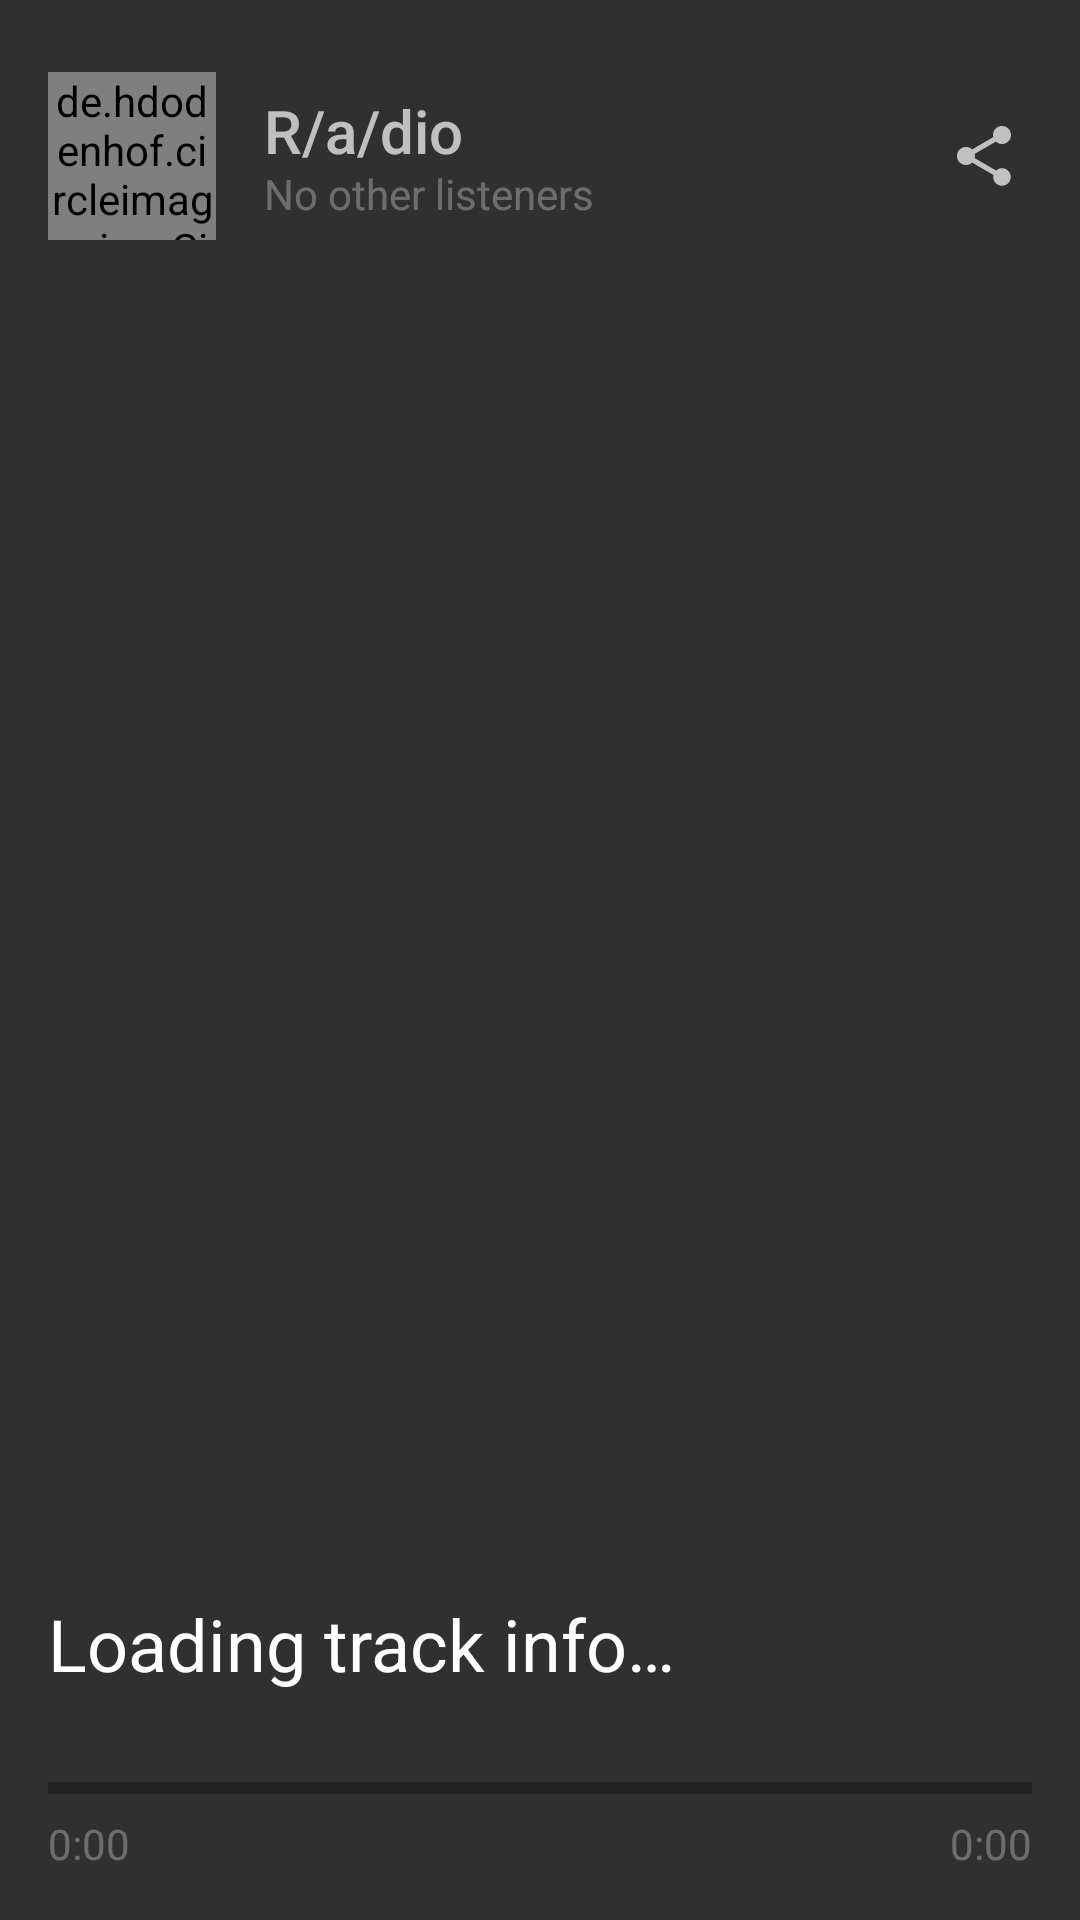

Point at icon controls on the screen. Image size 1080*1920, points as (x=x, y=y).
share: (x=984, y=156)
